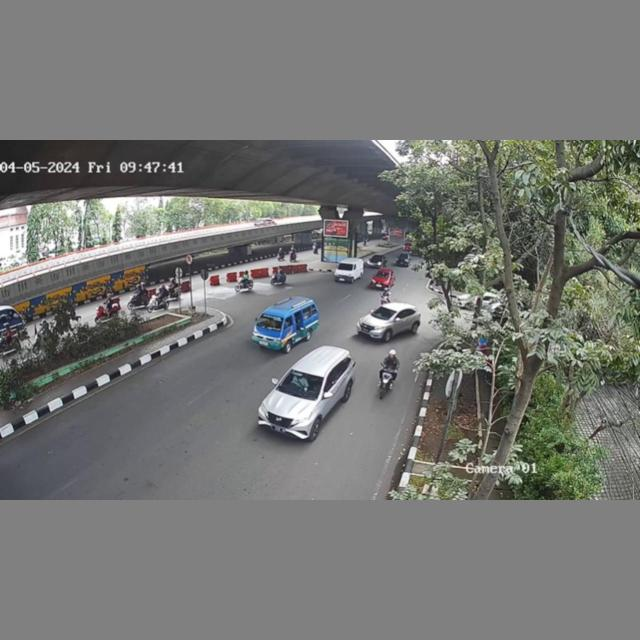windshield: (275, 368, 324, 400), (254, 312, 284, 331), (371, 307, 398, 321)
